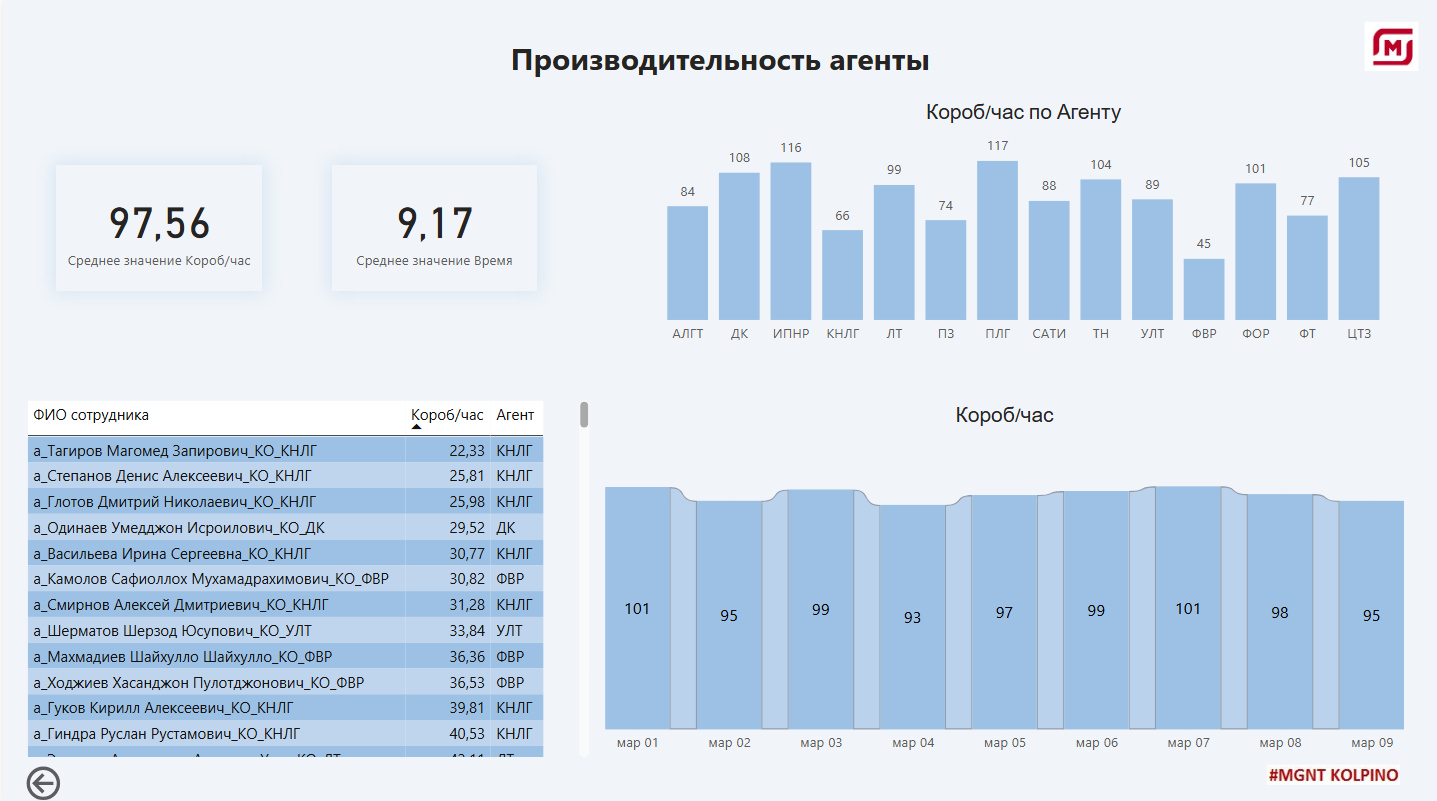

The page's visual inventory and layout, read from the dashboard file:
{"tool":"powerbi","page":{"name":"Производительность Аут","canvas":[1280,720],"ordinal":4},"visuals":[{"type":"actionButton","box":[16,680.1,41.7,39.9],"z":0},{"type":"tableEx","fields":{"Values":["Единый_отчёт_мотивации_Аут.ФИО сотрудника","Avg(Единый_отчёт_мотивации_Аут.Короб/час)","Единый_отчёт_мотивации_Аут.Агент"]},"box":[16.1,352.9,511.8,327.8],"z":1000},{"type":"card","fields":{"Values":["Avg(Единый_отчёт_мотивации_Аут.Короб/час)"]},"box":[47.3,147.8,184,111.6],"z":2000},{"type":"card","fields":{"Values":["Avg(Единый_отчёт_мотивации_Аут.Время)"]},"box":[293.6,147.8,183,111.6],"z":3000},{"type":"textbox","box":[447.4,29.2,396.2,48.3],"z":4000},{"type":"clusteredColumnChart","title":"Короб/час по Агенту","fields":{"Y":["Avg(Единый_отчёт_мотивации_Аут.Короб/час)"],"Category":["Единый_отчёт_мотивации_Аут.Агент"]},"box":[569.1,90.5,682.7,226.2],"z":5000},{"type":"ribbonChart","title":"Короб/час","fields":{"Y":["Avg(Единый_отчёт_мотивации_Аут.Короб/час)"],"Category":["Единый_отчёт_мотивации_Аут.Дата смены"]},"box":[528.1,360.4,730.9,321.2],"z":6000},{"type":"image","box":[1210,14,58,56],"z":7000},{"type":"image","box":[1112.8,678.3,148.1,28.4],"z":8000}]}

Visuals, with their boxes in screenshot pixels (x1, y1, x2, y2), scaled from the page's 1280x720 canvas onto the 1437x801 screenshot:
actionButton: [x1=18, y1=757, x2=65, y2=800]
tableEx - Единый_отчёт_мотивации_Аут.ФИО сотрудника x Avg(Единый_отчёт_мотивации_Аут.Короб/час): [x1=18, y1=393, x2=593, y2=757]
card - Avg(Единый_отчёт_мотивации_Аут.Короб/час): [x1=53, y1=164, x2=260, y2=289]
card - Avg(Единый_отчёт_мотивации_Аут.Время): [x1=330, y1=164, x2=535, y2=289]
textbox: [x1=502, y1=32, x2=947, y2=86]
"Короб/час по Агенту" clusteredColumnChart: [x1=639, y1=101, x2=1405, y2=352]
"Короб/час" ribbonChart: [x1=593, y1=401, x2=1413, y2=758]
image: [x1=1358, y1=16, x2=1424, y2=78]
image: [x1=1249, y1=755, x2=1416, y2=786]
